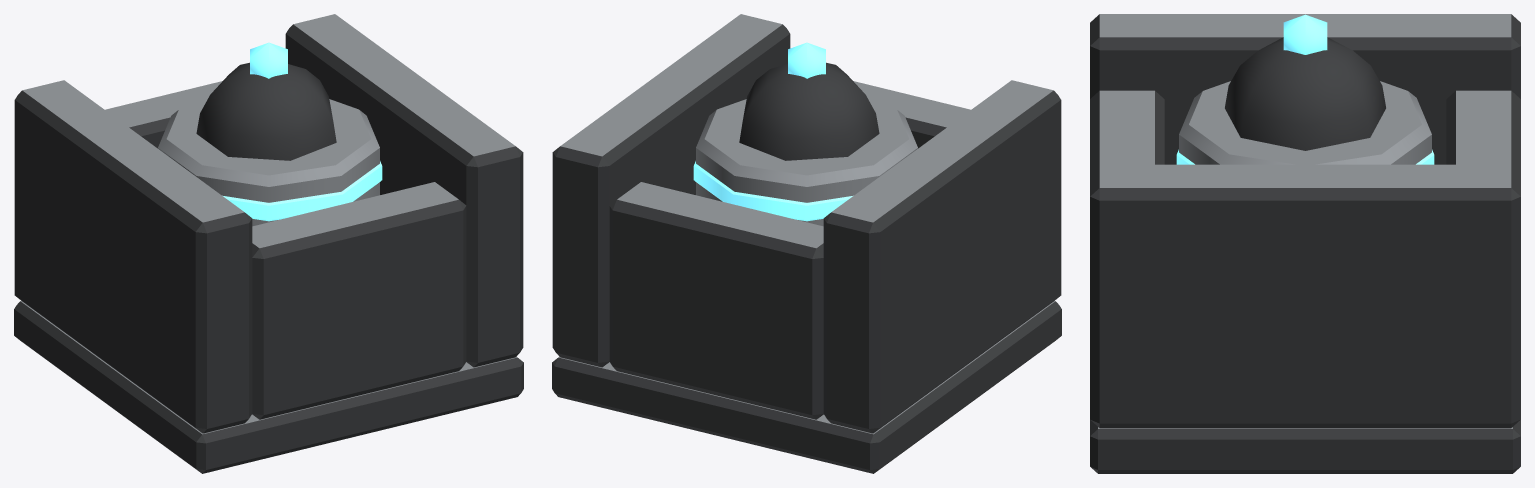
The model's file is R4X_DeployableShieldGenerator_LOD1.fbx.
The picture shows the model from 3 angles, left to right: view 1: azimuth 30°, elevation 25°; view 2: azimuth 150°, elevation 25°; view 3: azimuth 270°, elevation 25°; orthographic projection. The views are drawn at different scales.
Visible parts, largest first — view 1: R4X_DeployableShieldGenerator_LOD1; view 2: R4X_DeployableShieldGenerator_LOD1; view 3: R4X_DeployableShieldGenerator_LOD1.
Boxes of the visible parts, box(x1,y1,x2,y2) form: R4X_DeployableShieldGenerator_LOD1: box(14, 14, 523, 473); R4X_DeployableShieldGenerator_LOD1: box(552, 14, 1061, 473); R4X_DeployableShieldGenerator_LOD1: box(1090, 14, 1520, 473).
Bounding box in the file's own units: 0.52 × 0.495 × 0.52.
